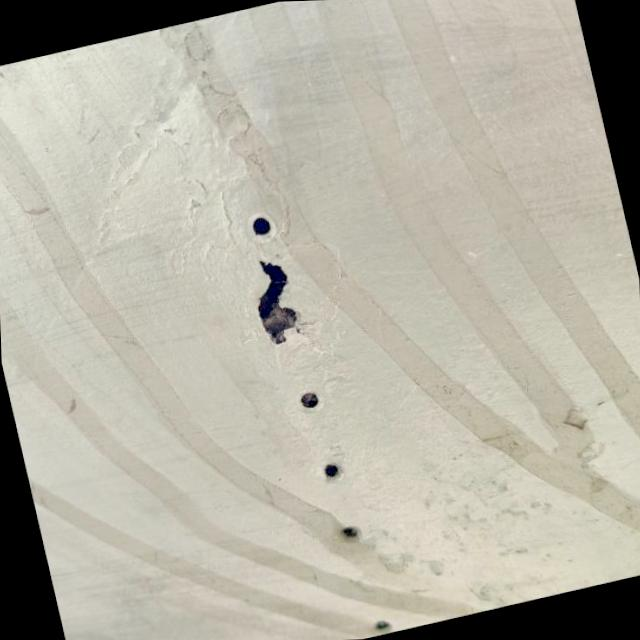Missing Fastener: (305, 457, 354, 495), (288, 382, 333, 416), (238, 210, 285, 242), (332, 510, 366, 544), (369, 616, 394, 634)
